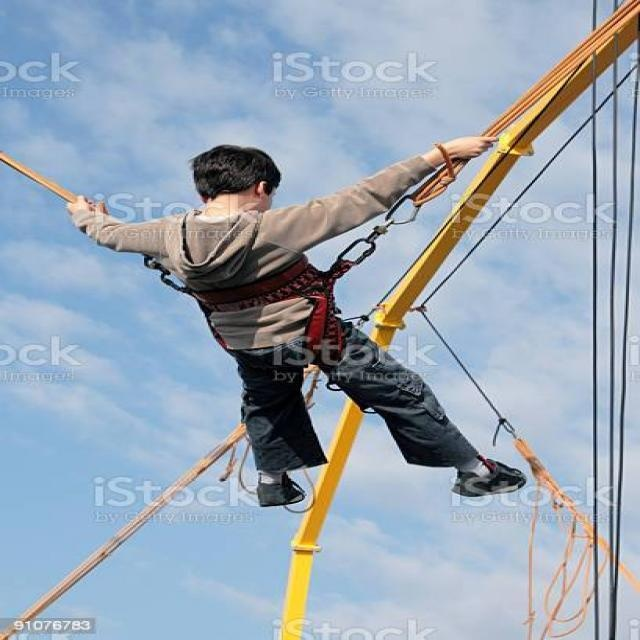Arnes_seguridad: (177, 256, 365, 371)
